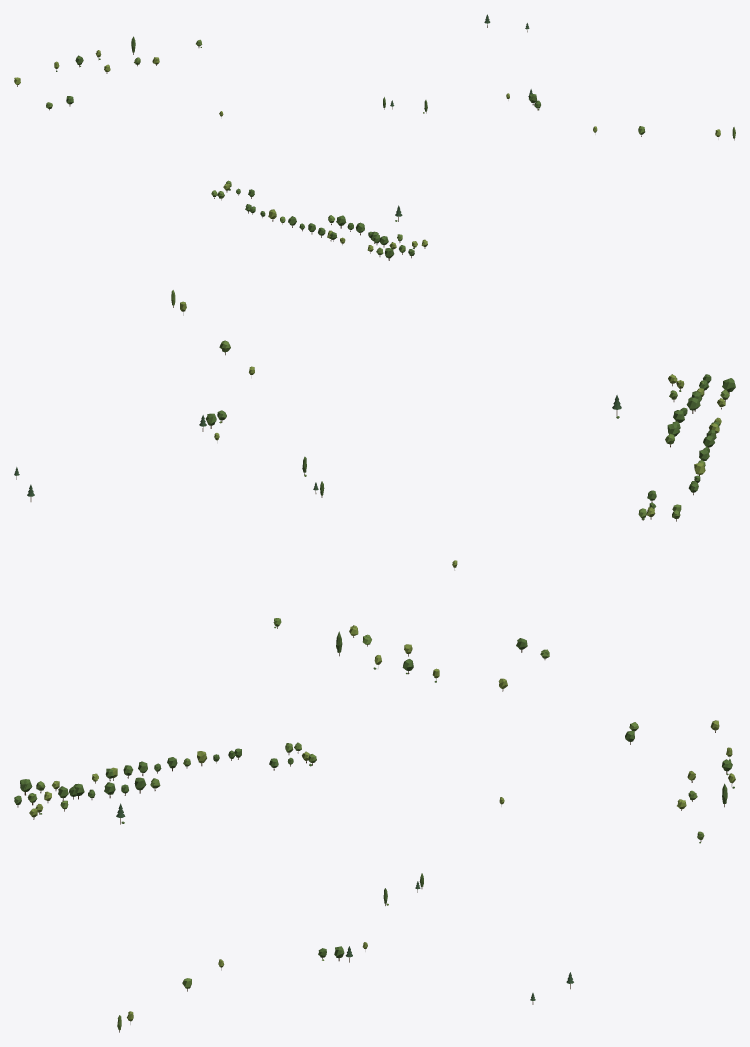
File: Natura_2_2.fbx
3 views of the same model, one above another, from view 1: azimuth 30°, elevation 25°; view 2: azimuth 150°, elevation 25°; view 3: azimuth 270°, elevation 25° (orthographic). The views are drawn at different scales.
Bounding box in the file's own units: 494 × 18.4 × 499.
